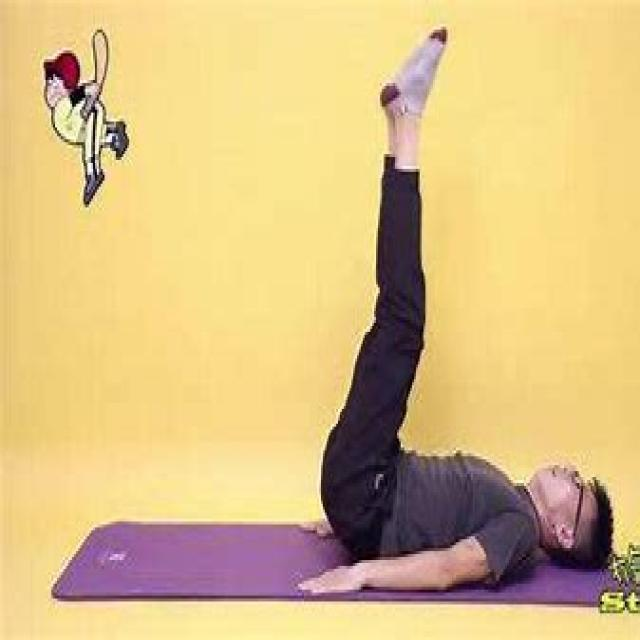lie: (318, 68, 619, 594)
